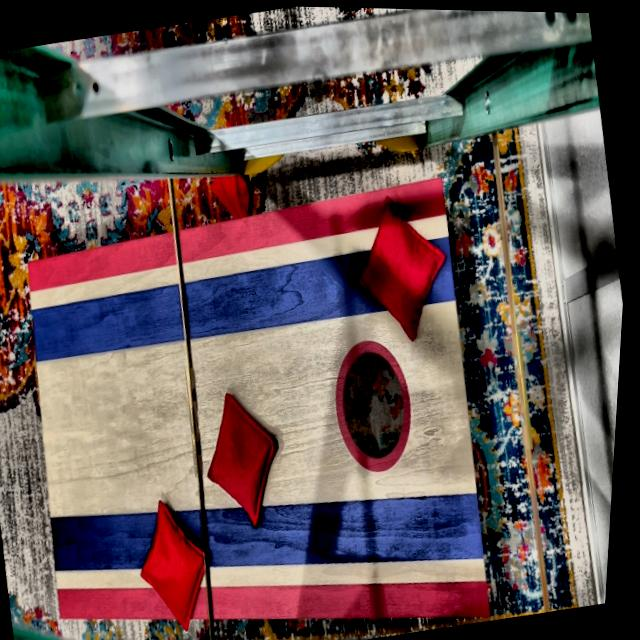board: (14, 191, 505, 622)
hole: (327, 331, 429, 480)
red-bean-bag: (343, 183, 466, 347), (196, 381, 298, 533), (132, 490, 232, 638)
